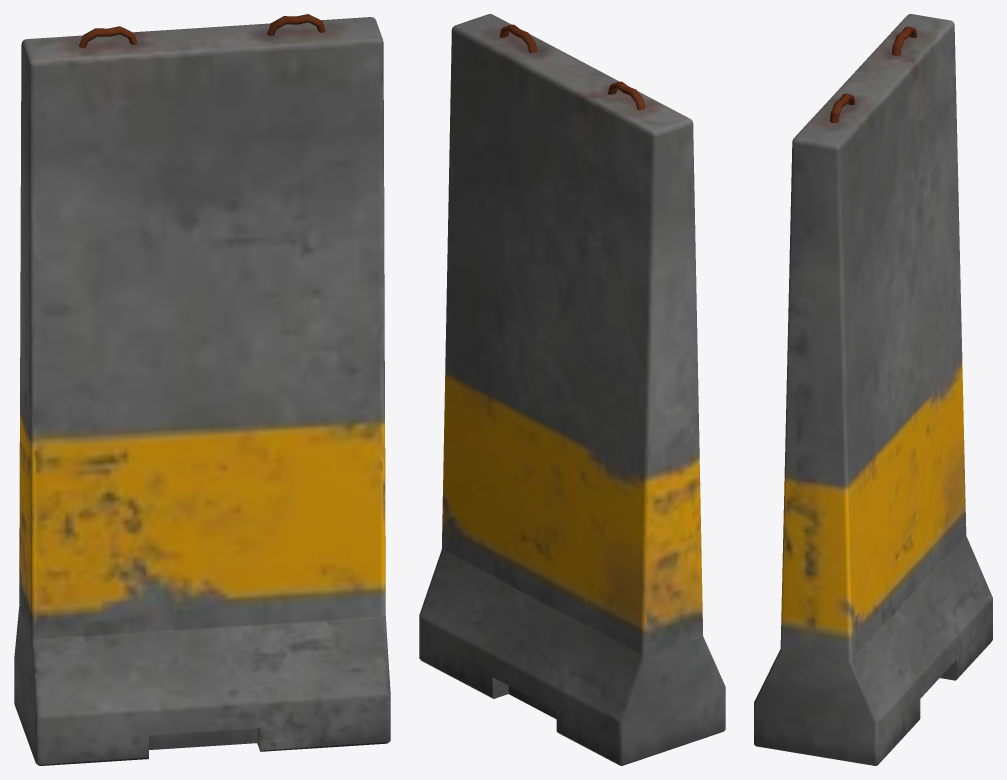
Rendered from wall-barrier.lod0.glb.
The picture shows the model from 3 angles, left to right: view 1: azimuth 30°, elevation 25°; view 2: azimuth 150°, elevation 25°; view 3: azimuth 270°, elevation 25°; orthographic projection. The views are drawn at different scales.
Visible parts, largest first — view 1: Object_12; view 2: Object_12; view 3: Object_12.
Part boxes in pixels (<box>): Object_12: <box>14,14,390,765</box>; Object_12: <box>419,14,725,765</box>; Object_12: <box>754,14,992,765</box>.
Bounding box in the file's own units: 1.01 × 2.04 × 0.7005.
Materials: 1 (1 with a texture image).
